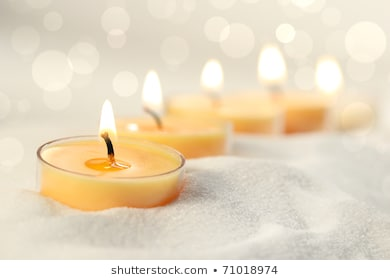Fire: (136, 65, 166, 123), (252, 44, 288, 90), (92, 95, 121, 147), (316, 53, 347, 100), (196, 58, 232, 98)
